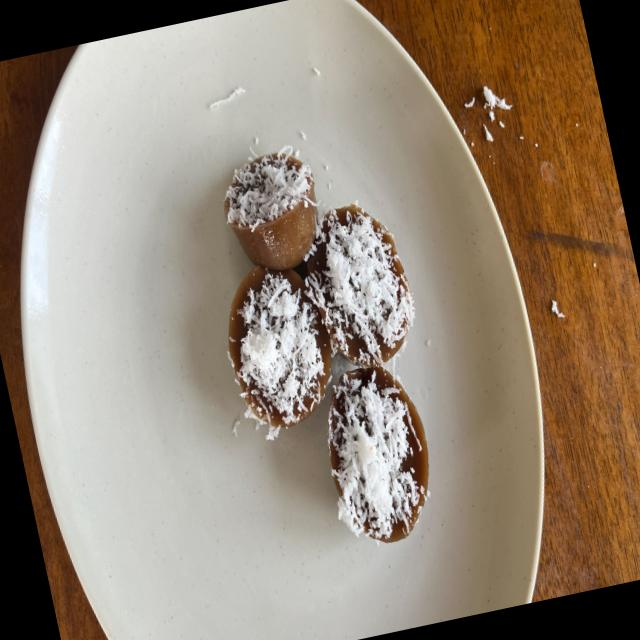Kuih lompang: (328, 366, 428, 542), (307, 204, 414, 366), (228, 265, 331, 430), (224, 147, 317, 270)
